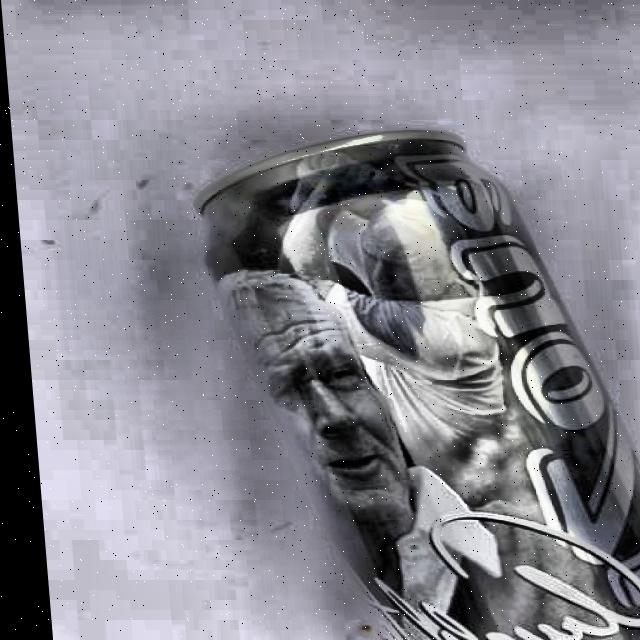metal: (173, 129, 640, 640)
